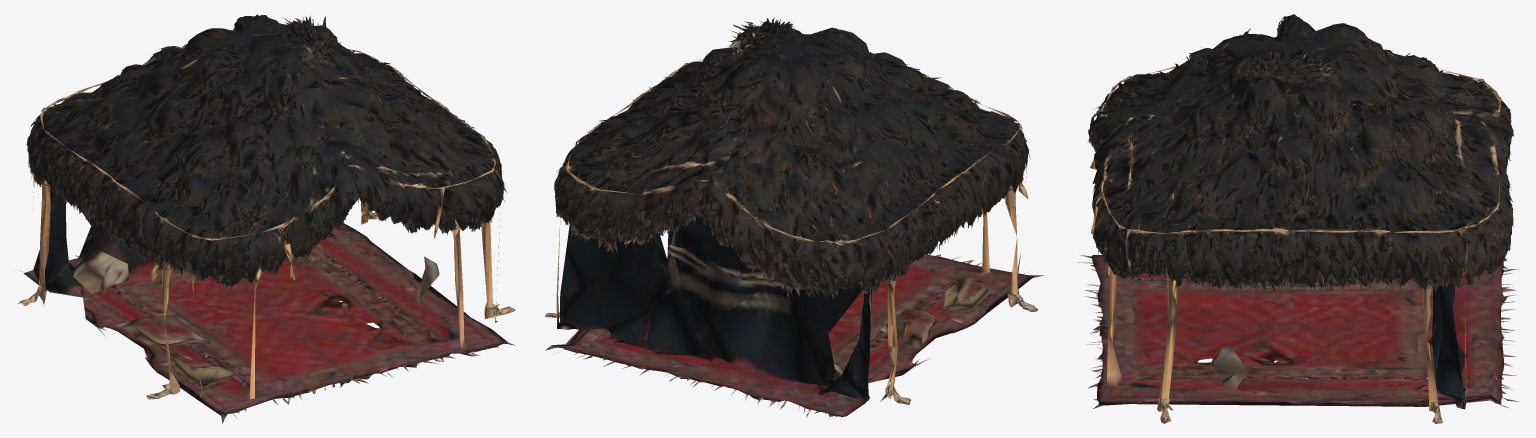
The model's file is bedouin-tent.glb.
The picture shows the model from 3 angles, left to right: view 1: azimuth 30°, elevation 25°; view 2: azimuth 150°, elevation 25°; view 3: azimuth 270°, elevation 25°; orthographic projection. The views are drawn at different scales.
Size of the model in its own units: 1.89 by 1.41 by 1.88.
Materials: 1 (1 with a texture image).
